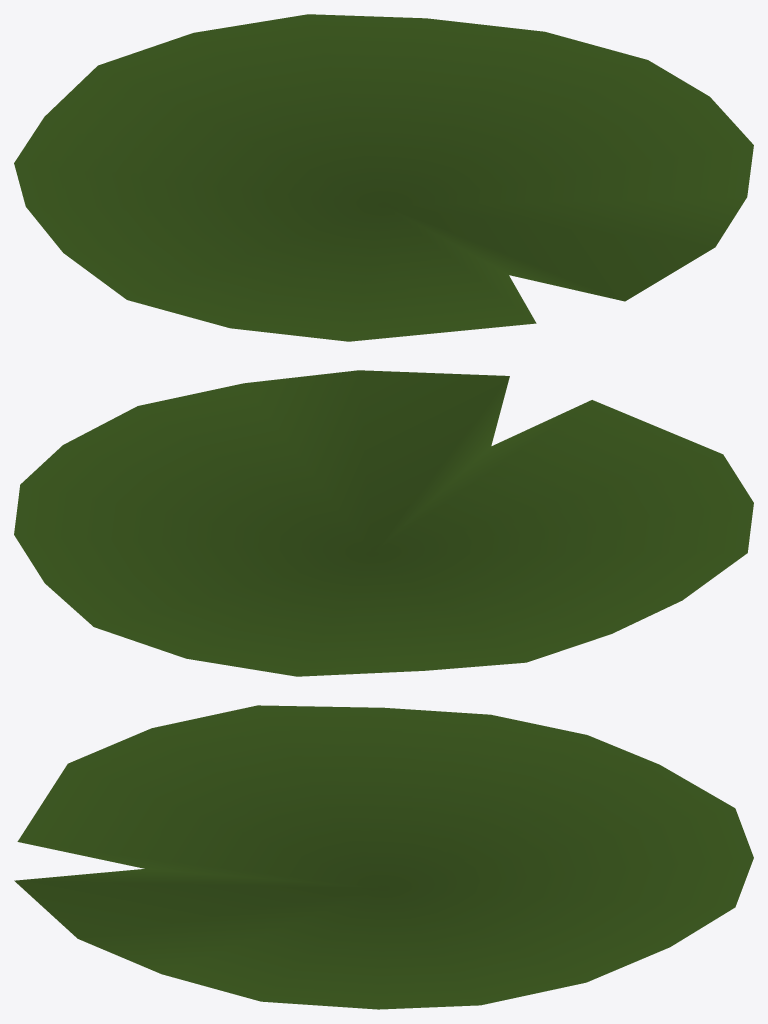
Rendered from LillyPad_02.fbx.
3 renders of one model, top to bottom at view 1: azimuth 30°, elevation 25°; view 2: azimuth 150°, elevation 25°; view 3: azimuth 270°, elevation 25°, orthographic. The views are drawn at different scales.
Visible parts, largest first — view 1: LilLyPad_type2; view 2: LilLyPad_type2; view 3: LilLyPad_type2.
Boxes of the visible parts, <box> form: LilLyPad_type2: <box>14,14,753,341</box>; LilLyPad_type2: <box>14,370,753,676</box>; LilLyPad_type2: <box>14,705,753,1009</box>.
Bounding box in the file's own units: 123 × 5.86 × 126.
